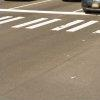Crosswalk: (3, 5, 100, 39)
